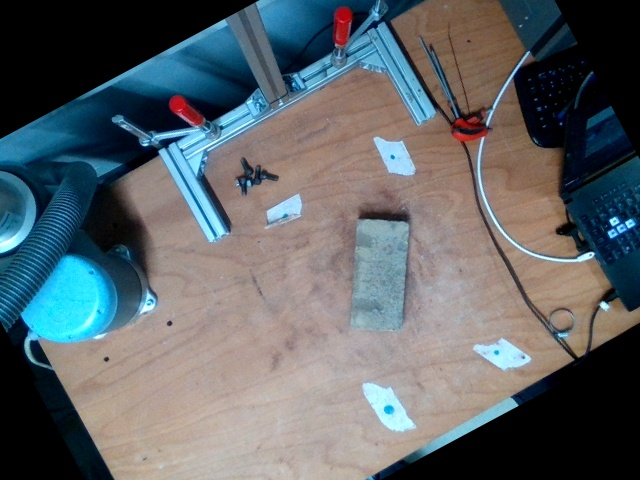brick: (355, 220, 407, 329)
